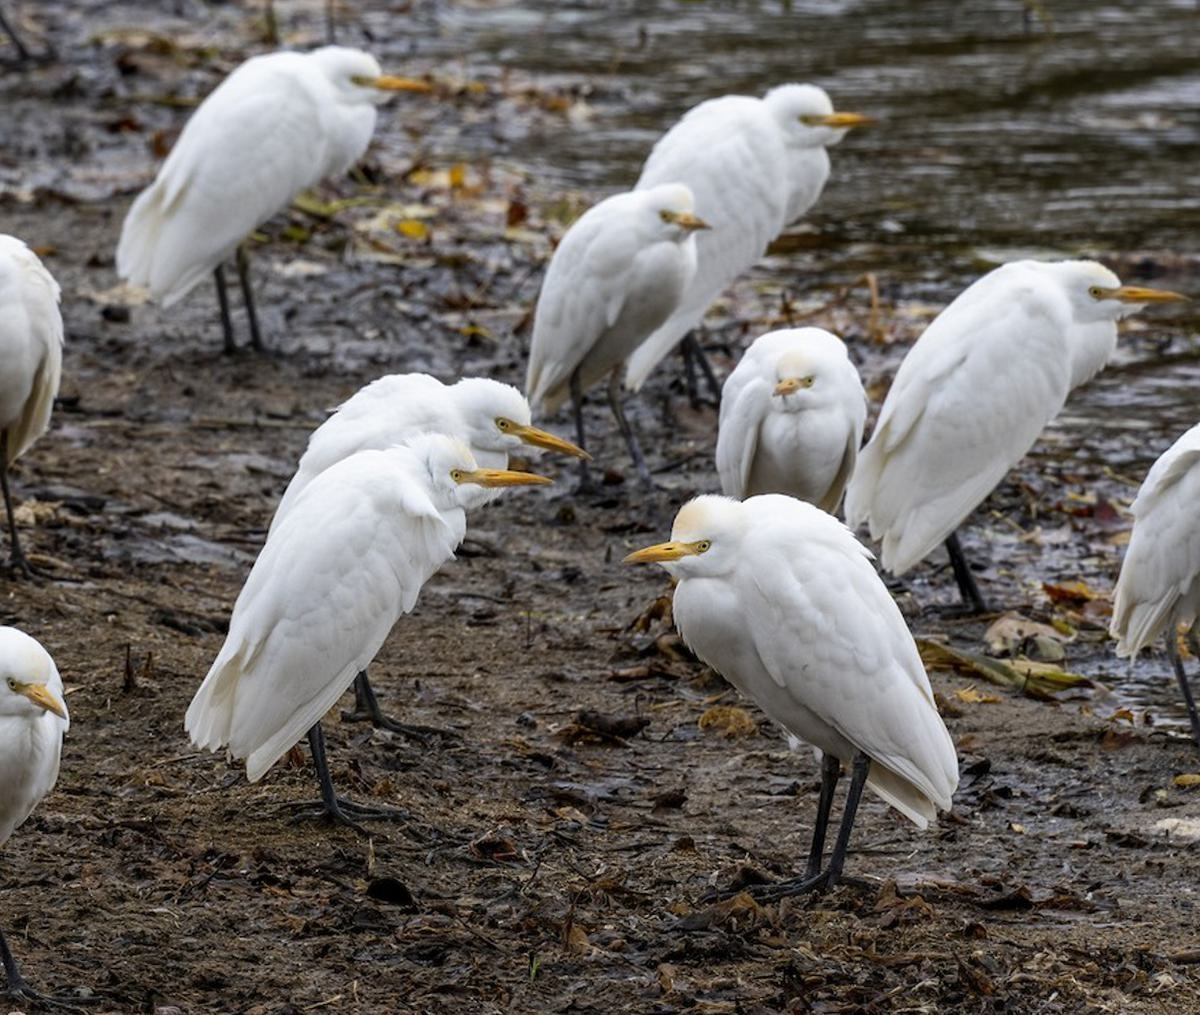egret: (641, 484, 988, 901), (199, 439, 550, 819), (861, 258, 1185, 601), (107, 43, 434, 339), (509, 186, 718, 421), (296, 377, 598, 471), (661, 71, 865, 206), (710, 320, 868, 489)
